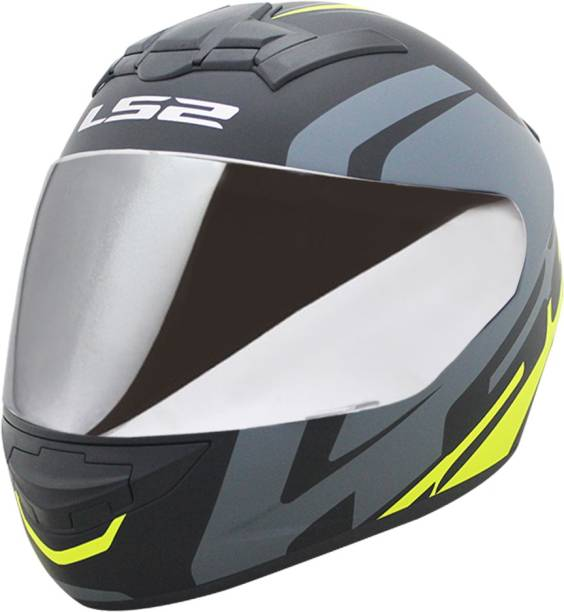with_helmet: (3, 2, 558, 612)
